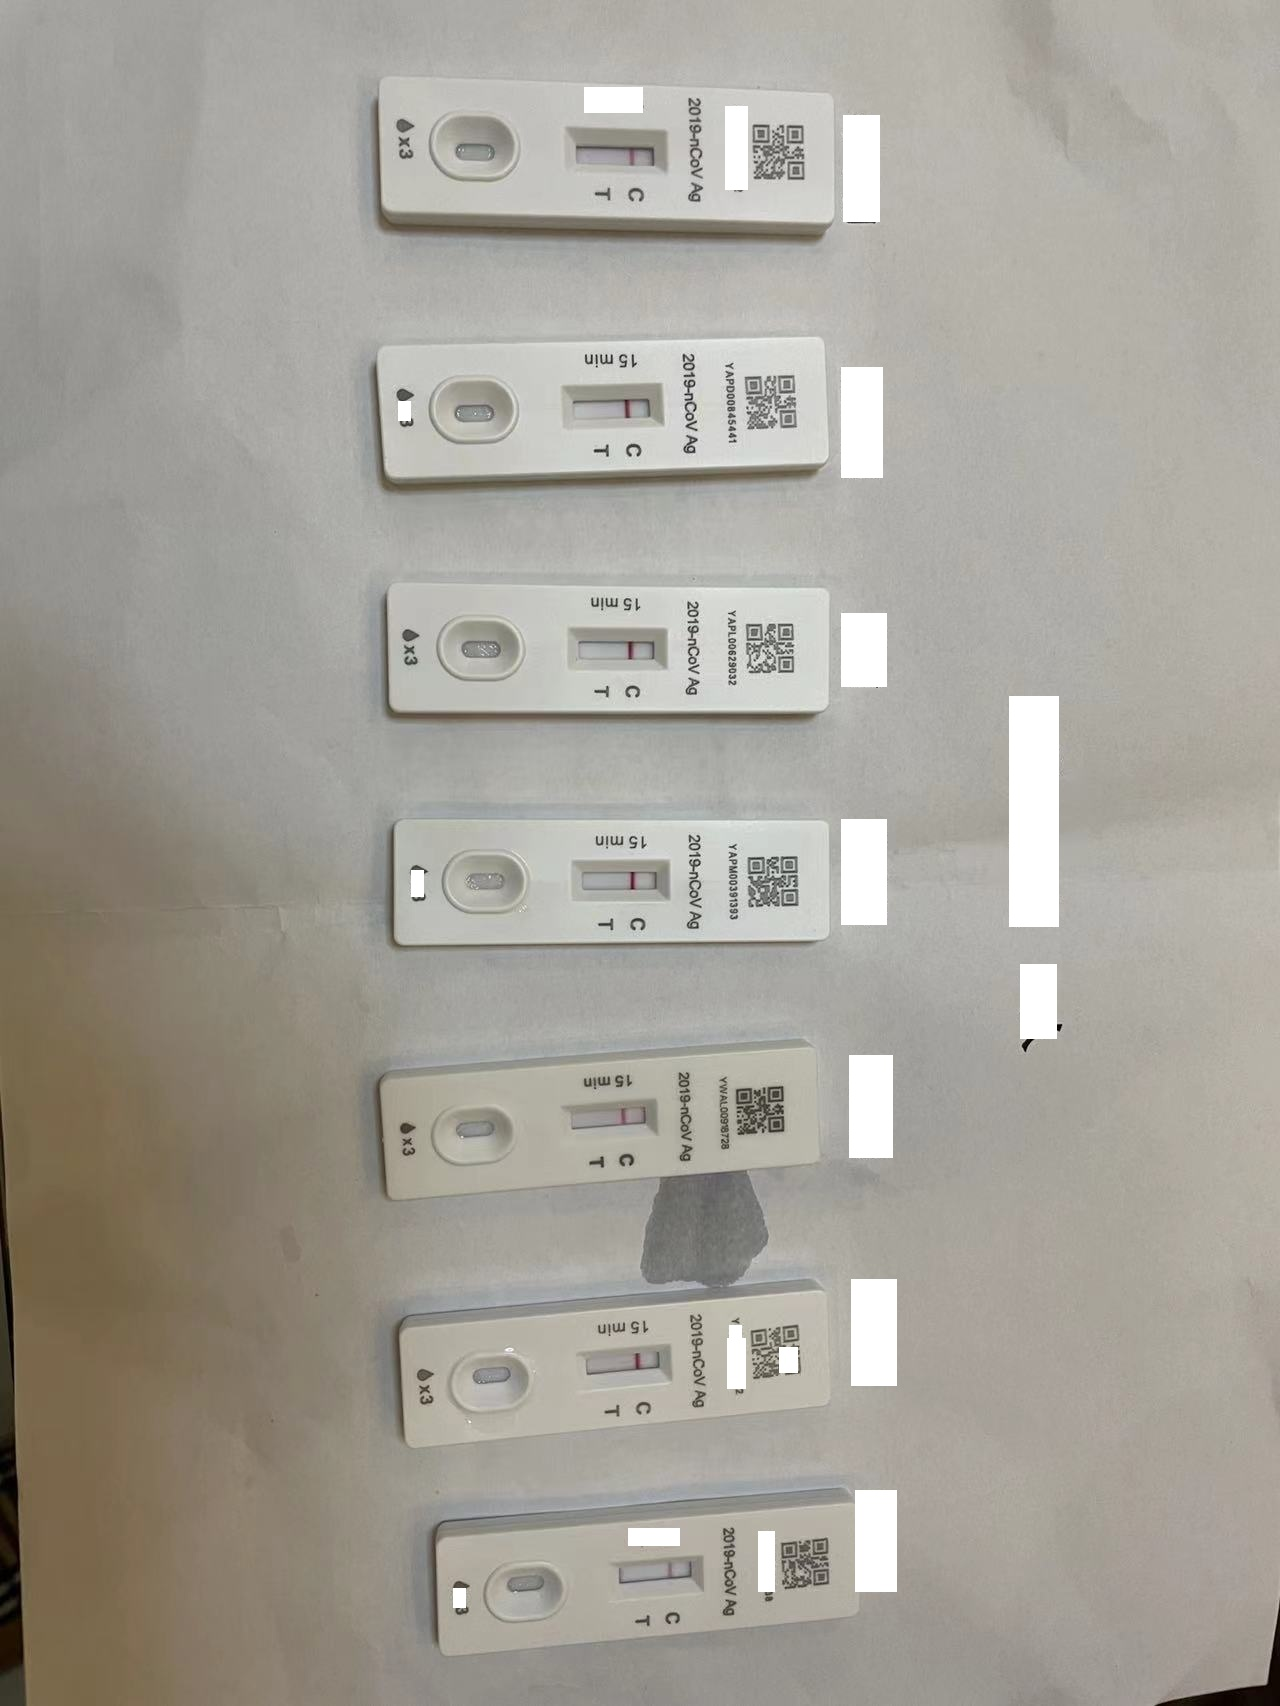negative: (565, 128, 670, 176), (571, 856, 670, 899), (565, 631, 670, 669), (562, 386, 666, 425), (579, 1347, 670, 1391), (566, 1105, 662, 1135), (623, 1561, 703, 1593)
